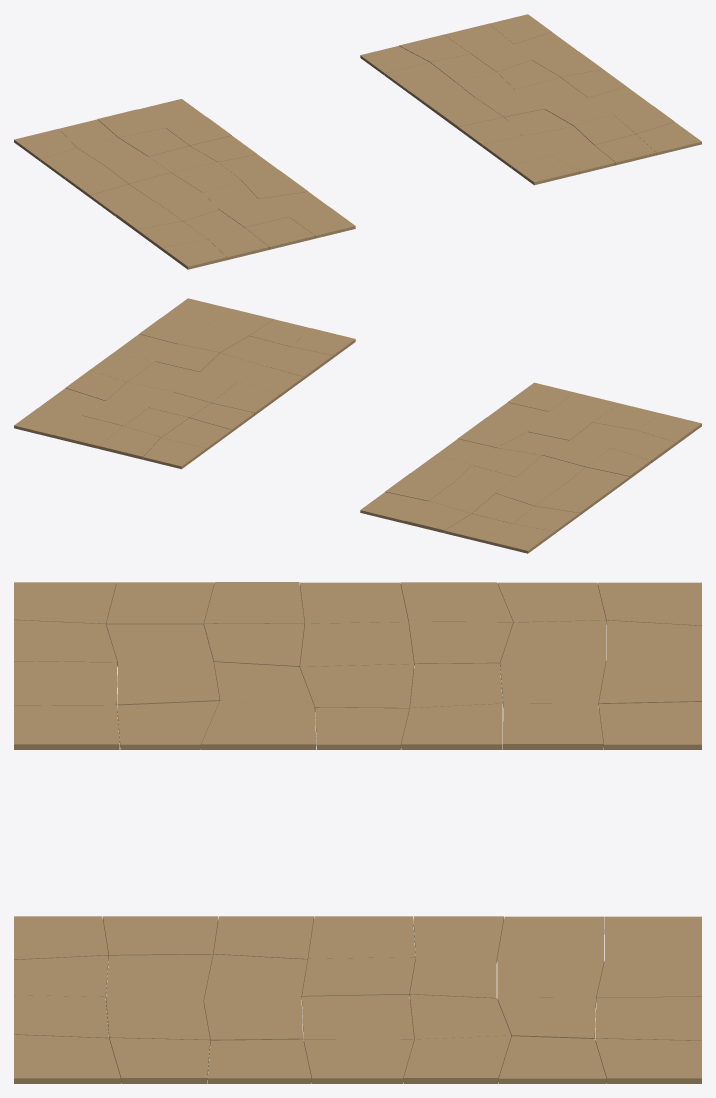
The model's file is Ground3.fbx.
3 renders of one model, top to bottom at view 1: azimuth 30°, elevation 25°; view 2: azimuth 150°, elevation 25°; view 3: azimuth 270°, elevation 25°, orthographic. The views are drawn at different scales.
Parts seen in each view (by area): view 1: Dirt2-1_0_0.001; view 2: Dirt2-1_0_0.001; view 3: Dirt2-1_0_0.001.
Boxes of the visible parts, x1,y1,x2,y2 form: Dirt2-1_0_0.001: (14,14,701,269); Dirt2-1_0_0.001: (14,298,701,553); Dirt2-1_0_0.001: (14,582,701,1083).
Size of the model in its own units: 14994 by 85.51 by 8793.
